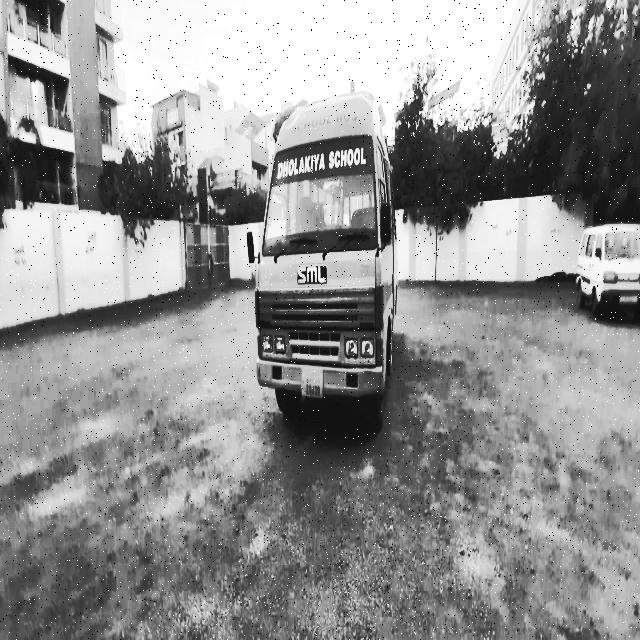Bus: (244, 85, 414, 450)
